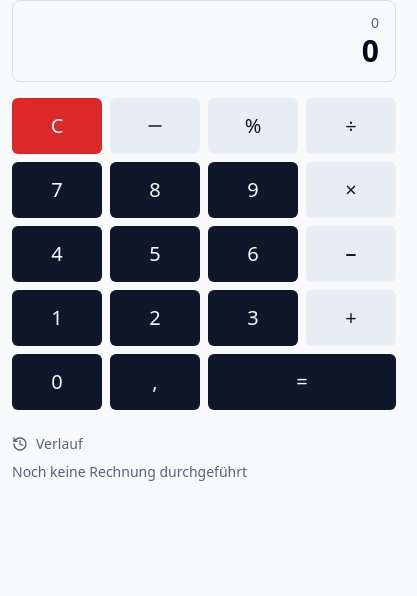
Test: Calculator — Fehleranzeige und Wiederholen › zeigt bei nicht erreichbarem Backend einen Fehler mit Wiederholen-Button und wiederholt auf Klick
Click the button "7" at x=57, y=190, box [12,162,102,218]
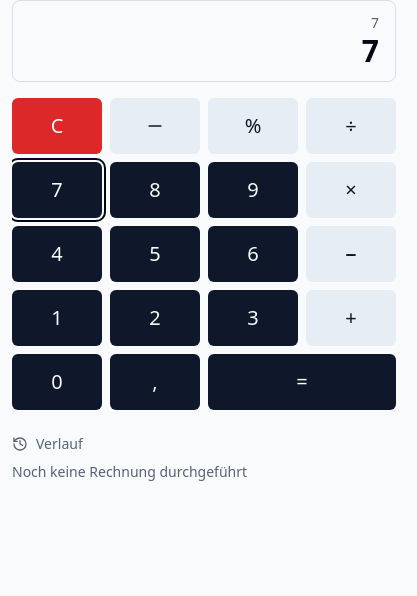
Click the button "×" at x=351, y=190, box [306,162,396,218]
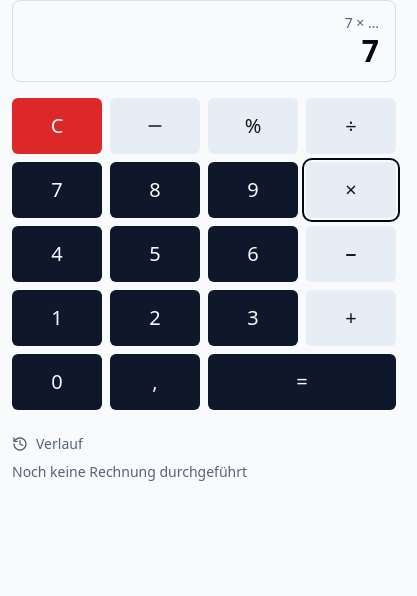
Click the button "3" at x=253, y=318, box [208,290,298,346]
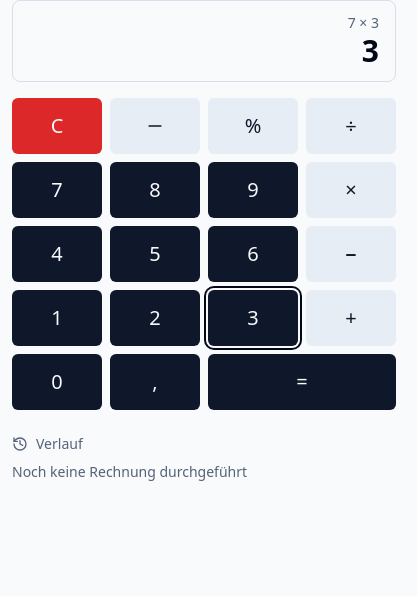
Click the button named "Gleich" at x=302, y=382, box [208,354,396,410]
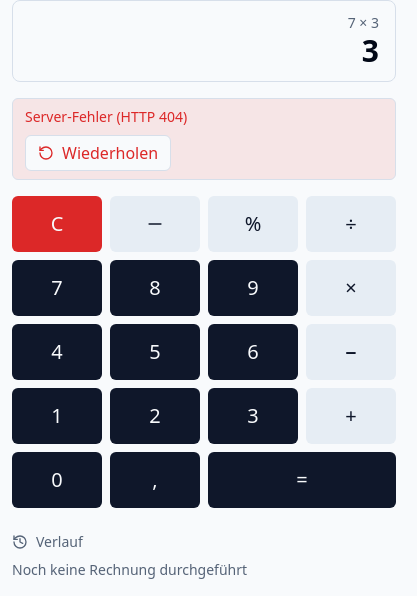
Result: the message shows "Server-Fehler (HTTP 404)" at [25,107,187,126]
Click the button "Wiederholen" at x=98, y=153, box [25,135,171,171]
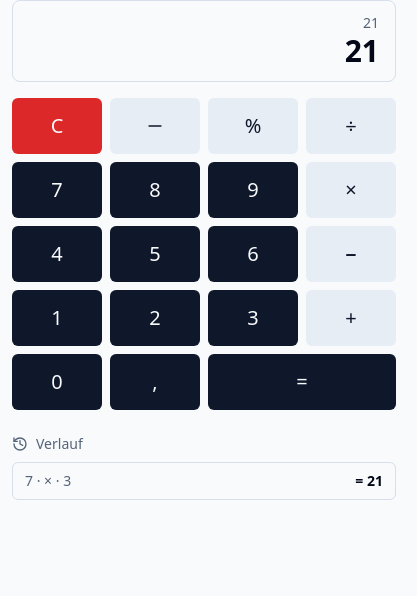
Result: the 2nd text "21" is shown at [345,30,379,71]
